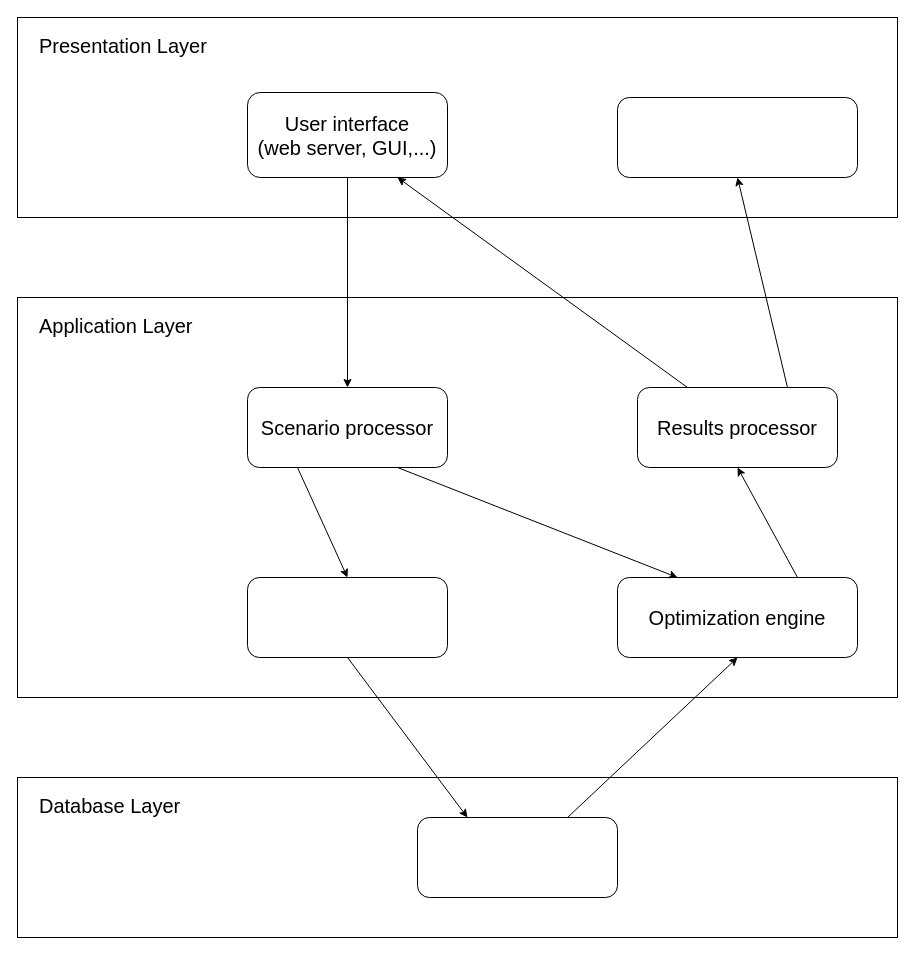
The diagram is 915 pixels wide and 955 high, and some of its shapes have lost their labels. Here are the shapes that lost their labels. From the top down, the centre of each, then its label:
(x=737, y=137): File exporter (e.g. wind farm layout)
(x=347, y=617): Query builder
(x=517, y=857): Query executor
